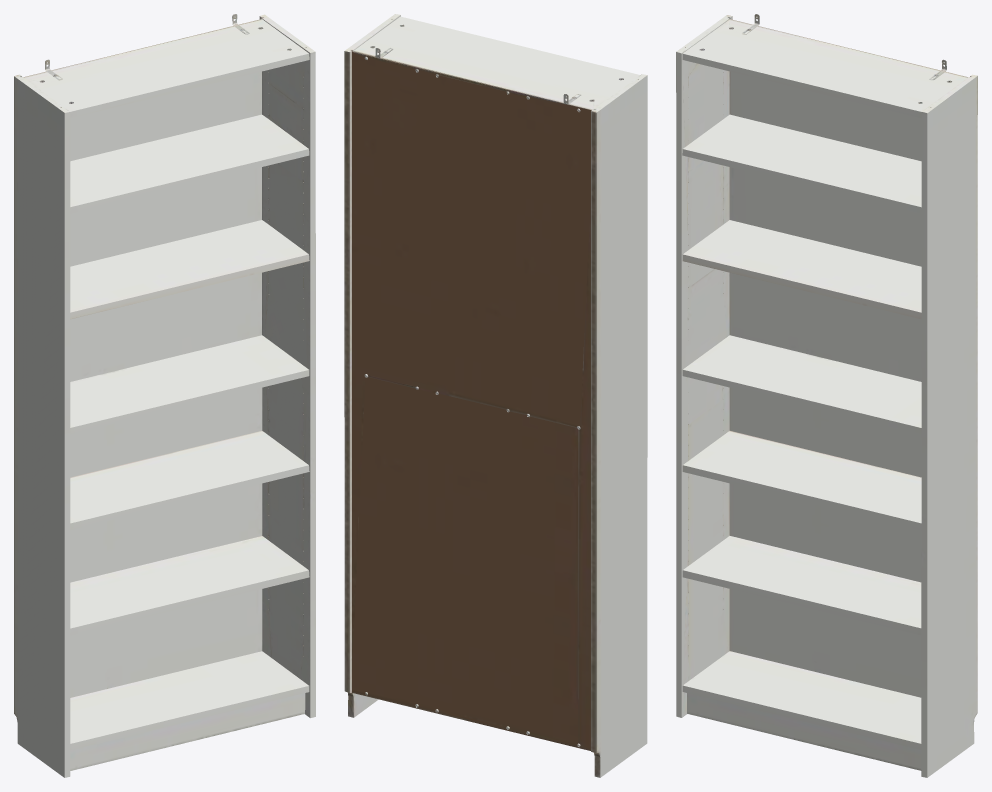
3 renders of one model, left to right at view 1: azimuth 30°, elevation 25°; view 2: azimuth 150°, elevation 25°; view 3: azimuth 330°, elevation 25°, orthographic.
Visible parts, largest first — view 1: ASY_ART_20522046_S01_NV01; view 2: ASY_ART_20522046_S01_NV01; view 3: ASY_ART_20522046_S01_NV01.
Part boxes in pixels (x1,y1,x2,y2): ASY_ART_20522046_S01_NV01: (14,14,315,777); ASY_ART_20522046_S01_NV01: (344,14,647,777); ASY_ART_20522046_S01_NV01: (676,14,977,777).
Size of the model in its own units: 0.7986 by 2.05 by 0.2812.
1 material, 1 textured.
